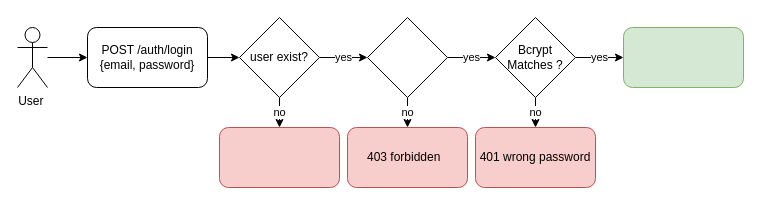
Some shapes in this 761 by 205 pixel diagram are drawn without their labels. The shapes that lost their labels are listed below. From the top down, each one's box as (x1, y1, x2, y2) in pixels, then its label:
(366, 16, 448, 98): user isActive?
(622, 26, 744, 88): authResponse {token, email,role....}
(218, 126, 340, 188): 401 user doesn't exist
